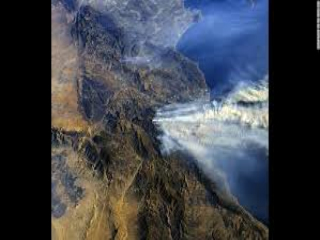smoke: (146, 77, 272, 147)
